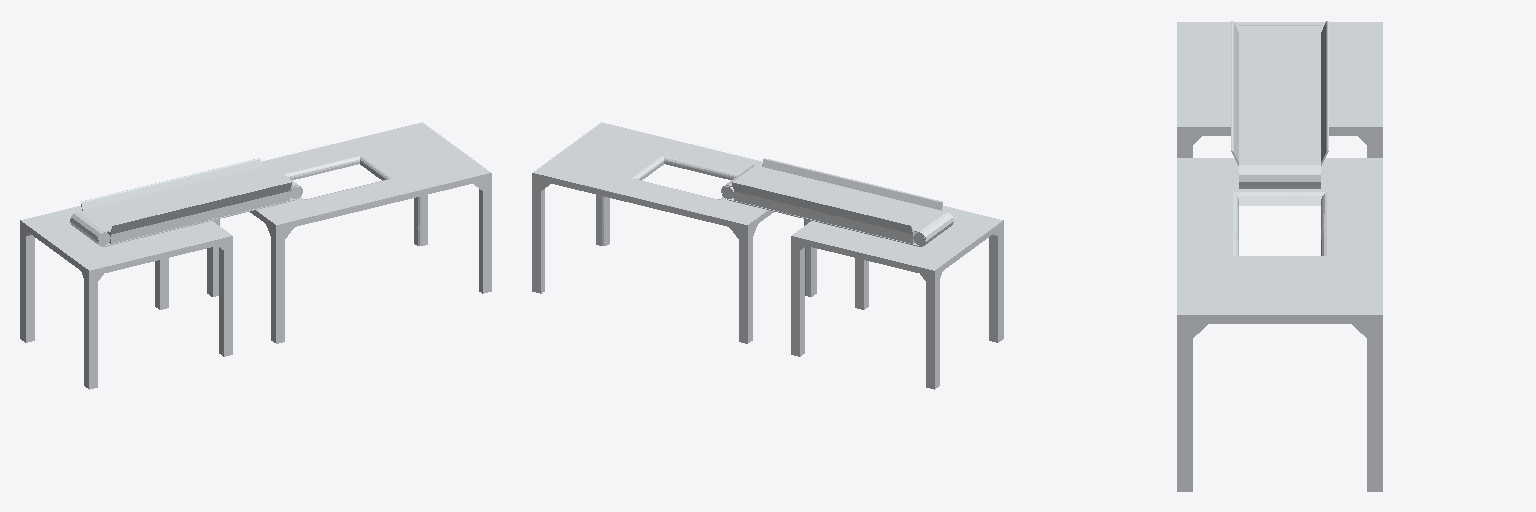
URDF robot description (conveyor):
<robot
  name="conveyor">
  <link
    name="base_link">
    <inertial>
      <origin
        xyz="0.86989 -0.022467 -1.4385E-07"
        rpy="0 0 0" />
      <mass
        value="696.03" />
      <inertia
        ixx="93.004"
        ixy="9.4697"
        ixz="8.9932E-05"
        iyy="722.77"
        iyz="7.9152E-06"
        izz="693.6" />
    </inertial>
    <visual>
      <origin
        xyz="0 0 0"
        rpy="0 0 0" />
      <geometry>
        <mesh
          filename="package://conveyor/meshes/base_link.STL" />
      </geometry>
      <material
        name="">
        <color
          rgba="0.89804 0.91765 0.92941 1" />
      </material>
    </visual>
    <collision>
      <origin
        xyz="0 0 0"
        rpy="0 0 0" />
      <geometry>
        <mesh
          filename="package://conveyor/meshes/base_link.STL" />
      </geometry>
    </collision>
  </link>
</robot>

--- Render facts (derived) ---
Views: 3 orthographic renders of the robot side by side, from view 1: azimuth 30°, elevation 25°; view 2: azimuth 150°, elevation 25°; view 3: azimuth 270°, elevation 25°.
Model conveyor with 1 links and 0 joints (none), rooted at base_link, posed every joint at zero.
Links seen in each view (by area): view 1: base_link; view 2: base_link; view 3: base_link.
Boxes of the visible links, left/top/right/bottom form: base_link: left=20, top=122, right=491, bottom=389; base_link: left=532, top=122, right=1003, bottom=389; base_link: left=1177, top=21, right=1382, bottom=491.
Bounding box of the posed robot: 3.36 × 1 × 1.12 m (x, y, z).
1 mesh visuals loaded from 1 distinct referenced files (1 binary STL).